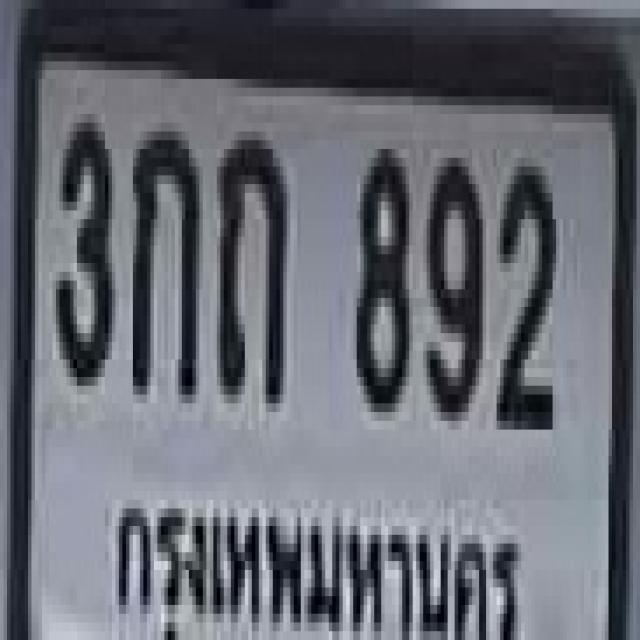2: (493, 158, 553, 421)
3: (53, 114, 109, 377)
8: (353, 140, 406, 404)
9: (423, 149, 479, 412)
A01: (129, 122, 196, 386)
A22: (214, 132, 284, 394)
BKK: (104, 491, 532, 640)
